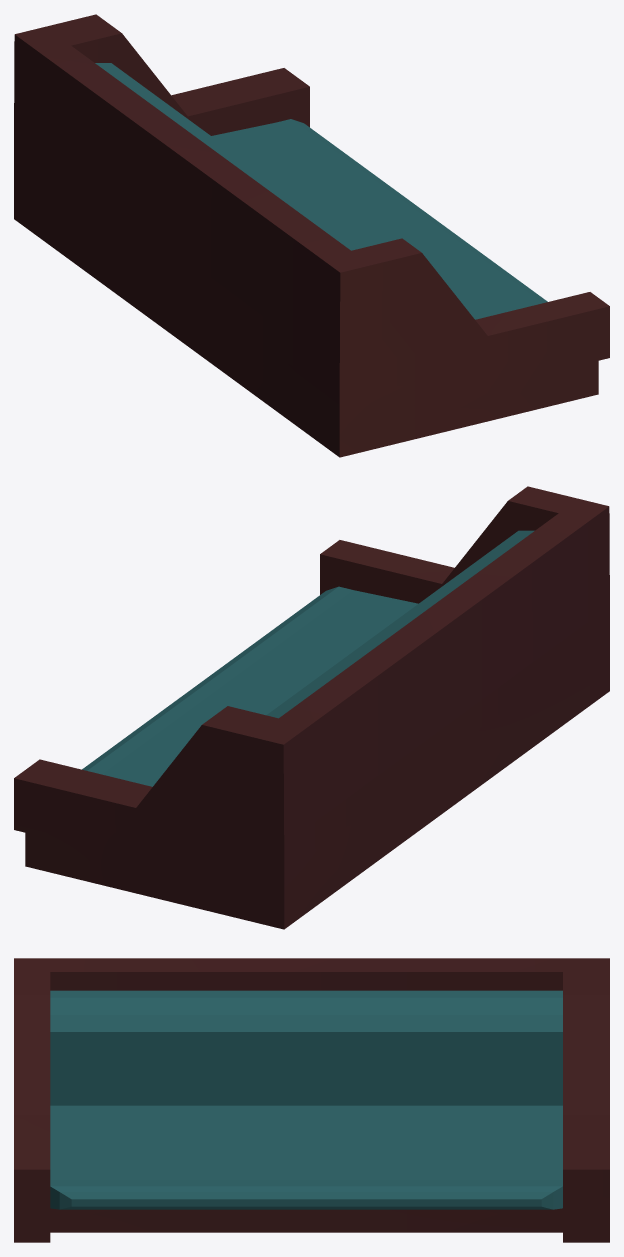
The model's file is Furniture_Sofa01.fbx.
3 views of the same model, one above another, from view 1: azimuth 30°, elevation 25°; view 2: azimuth 150°, elevation 25°; view 3: azimuth 270°, elevation 25° (orthographic). The views are drawn at different scales.
Parts seen in each view (by area): view 1: Cube.339; view 2: Cube.339; view 3: Cube.339.
Boxes of the visible parts, <box> form: Cube.339: <box>14,14,609,457</box>; Cube.339: <box>14,486,609,929</box>; Cube.339: <box>14,958,609,1242</box>.
Size of the model in its own units: 85 by 55.53 by 178.
